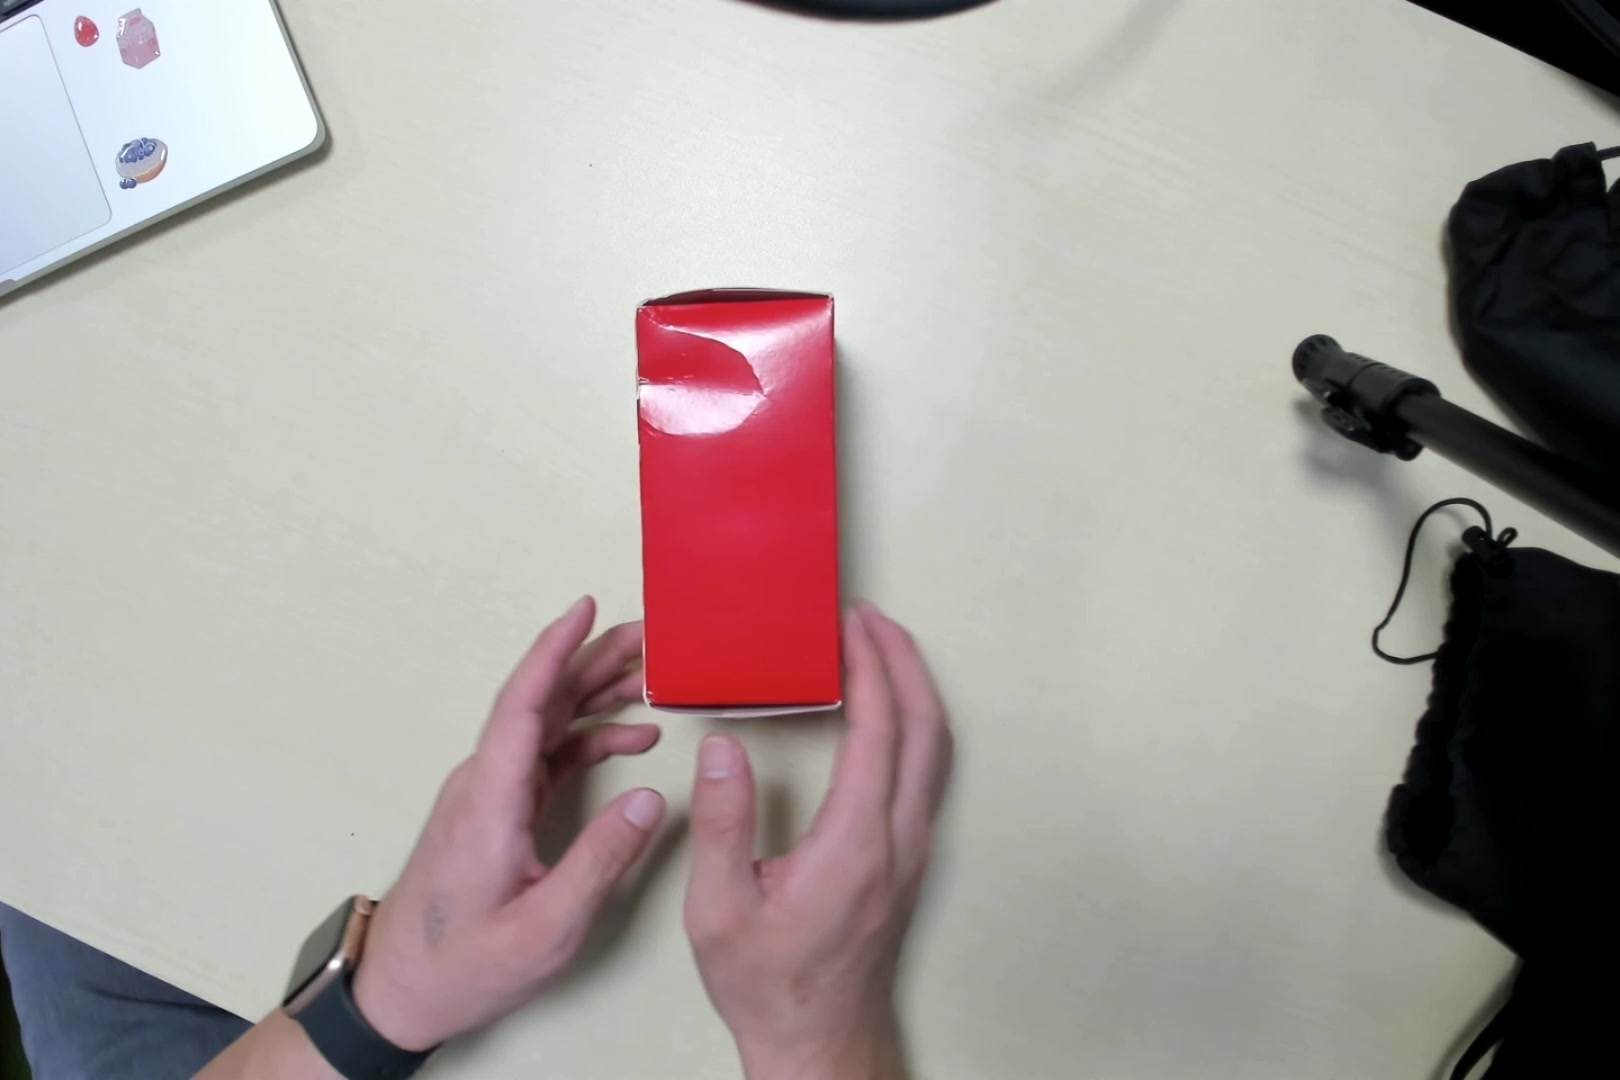Tea(PowderLeaves)_100-199g_Halal_NonHealthy: (630, 281, 849, 724)
